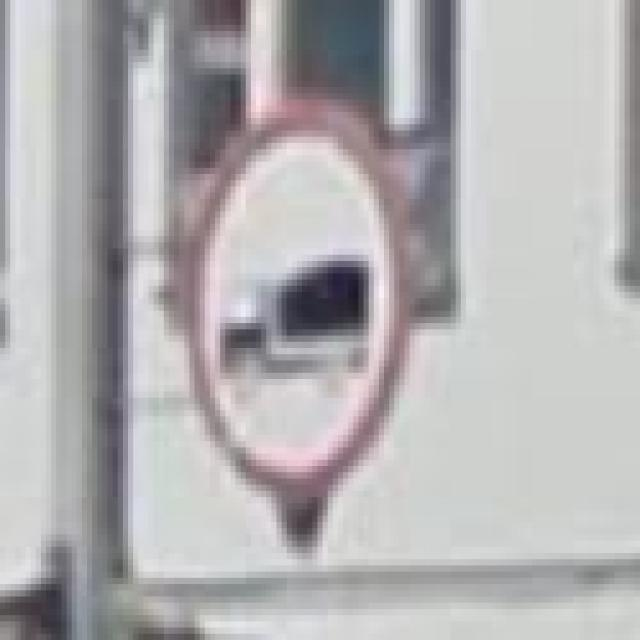traffic_sign: (179, 99, 410, 491)
